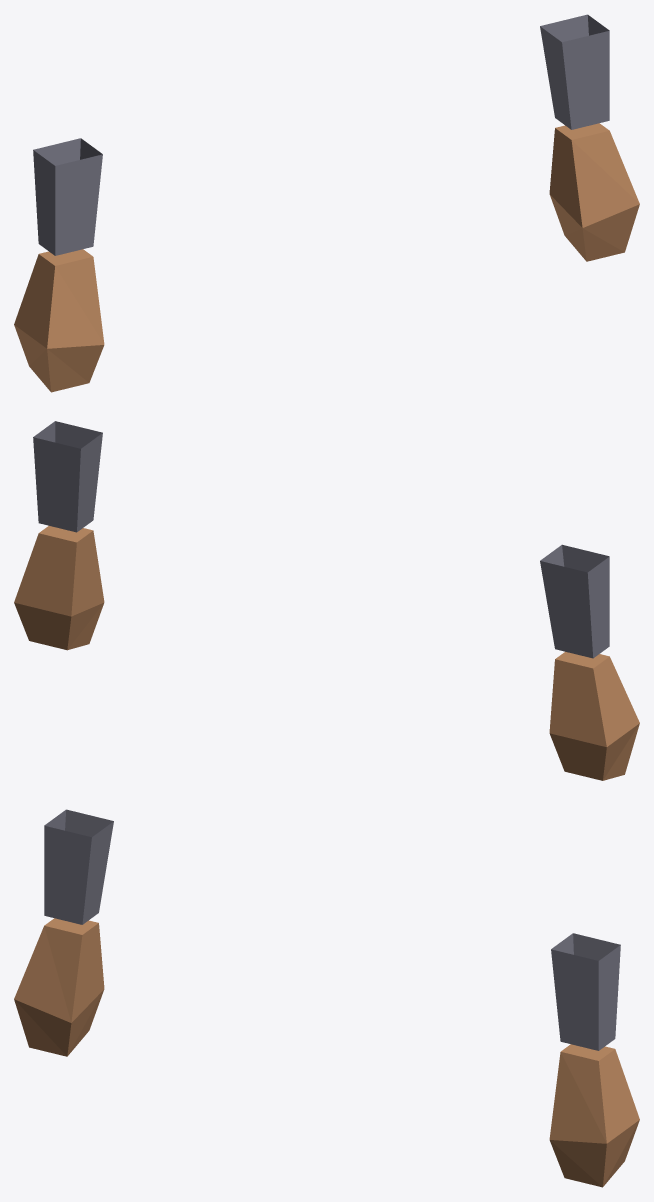
The model's file is model_353_idk.obj.
3 renders of one model, top to bottom at view 1: azimuth 30°, elevation 25°; view 2: azimuth 150°, elevation 25°; view 3: azimuth 330°, elevation 25°, orthographic.
Parts seen in each view (by area): view 1: 353; view 2: 353; view 3: 353.
Boxes of the visible parts, <box> form: 353: <box>14,14,639,392</box>; 353: <box>14,421,639,780</box>; 353: <box>14,809,639,1187</box>.
Bounding box in the file's own units: 62 × 22 × 6.
